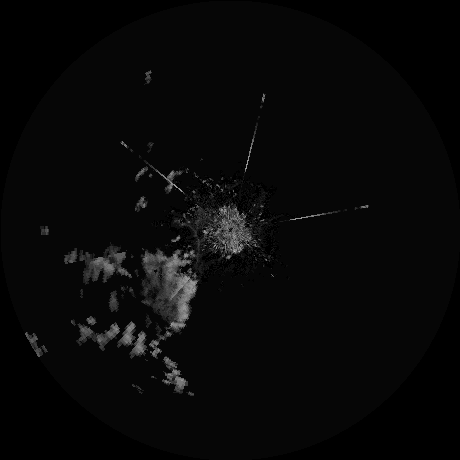frontgust: (186, 223, 203, 262)
